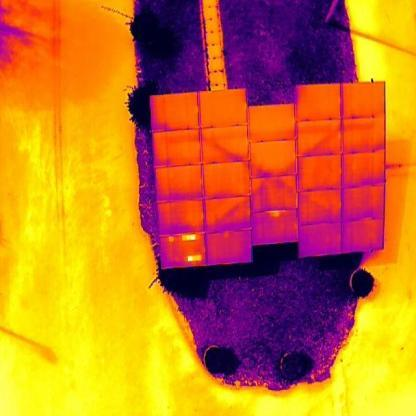anomaly: (179, 230, 199, 243), (184, 252, 204, 264)
